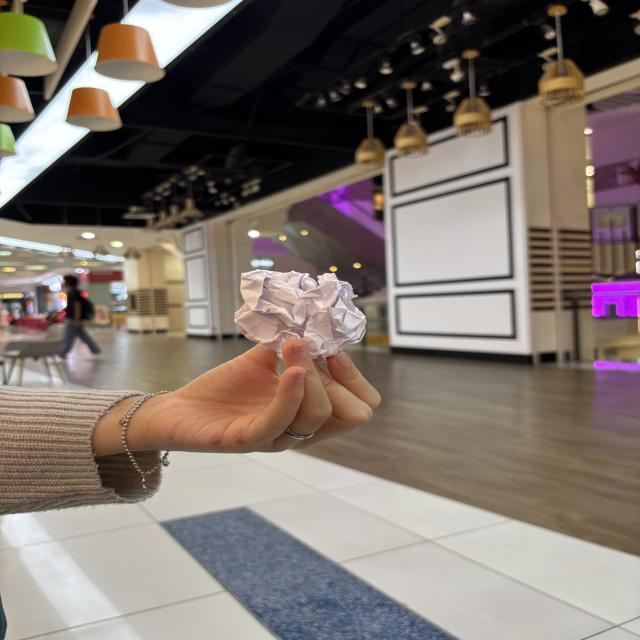crumpled_paper: (230, 265, 372, 357)
